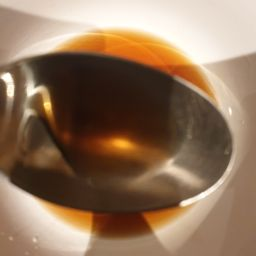Balsamic vinegar: (7, 50, 234, 229), (34, 34, 133, 241), (116, 27, 208, 240), (4, 151, 207, 237), (66, 28, 226, 129)
